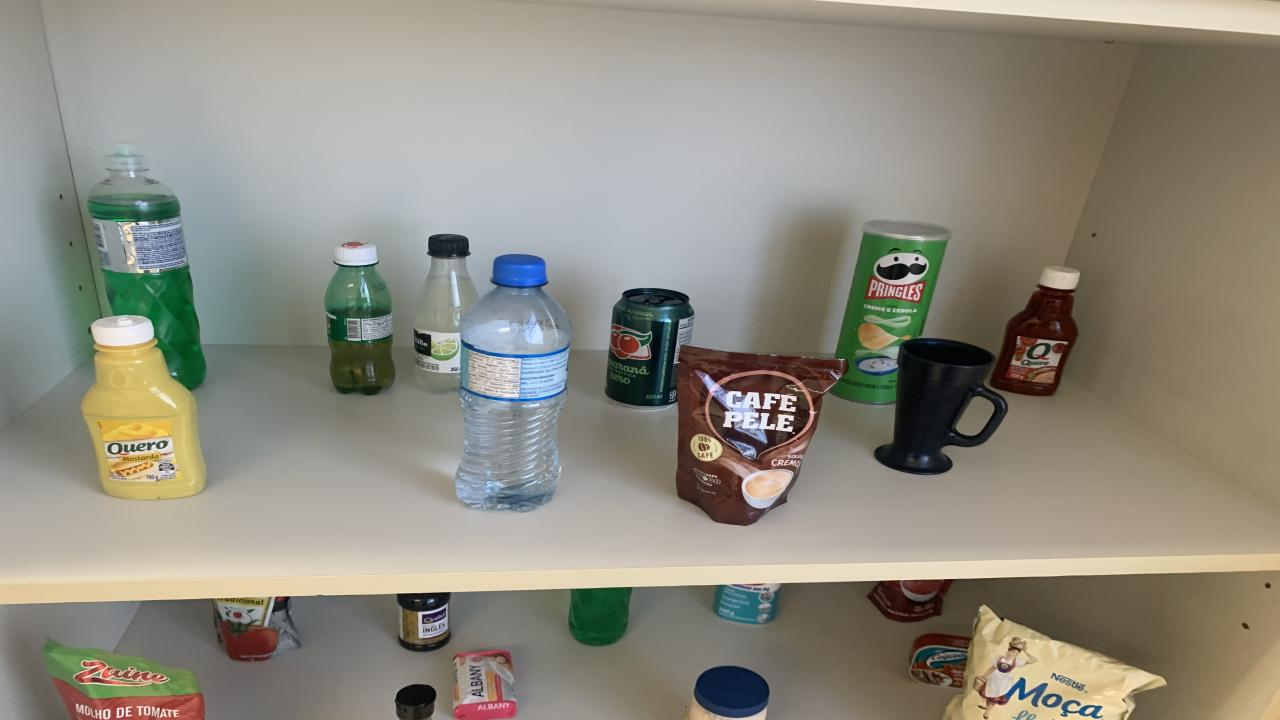Cleaner-Cleanup_Items: (712, 583, 780, 624)
Coffee-Pantry_Items: (678, 347, 848, 525)
Detergent-Cleanup_Items: (88, 142, 208, 388), (568, 587, 632, 647)
English_Sauce-Pantry_Items: (398, 592, 450, 651), (395, 684, 438, 720)
Flakes-Snacks: (945, 606, 1165, 720)
Guarana-Drinks: (325, 242, 395, 396)
Guarana_Can-Drinks: (605, 289, 695, 407)
Ketchup-Pantry_Items: (990, 266, 1080, 396)
Mayonnaise-Pantry_Items: (688, 666, 770, 720)
Mustard-Pantry_Items: (82, 315, 208, 499)
Pringles-Snacks: (832, 219, 950, 405)
Soap-Cleanup_Items: (452, 651, 518, 720)
Soda-Drinks: (412, 234, 478, 394)
Tomato_Sauce-Pantry_Items: (42, 639, 205, 720), (212, 596, 300, 660), (868, 579, 952, 622)
Tuna_Can-Pantry_Items: (910, 634, 970, 688)
Water_Bottle-Drinks: (455, 255, 572, 512)
